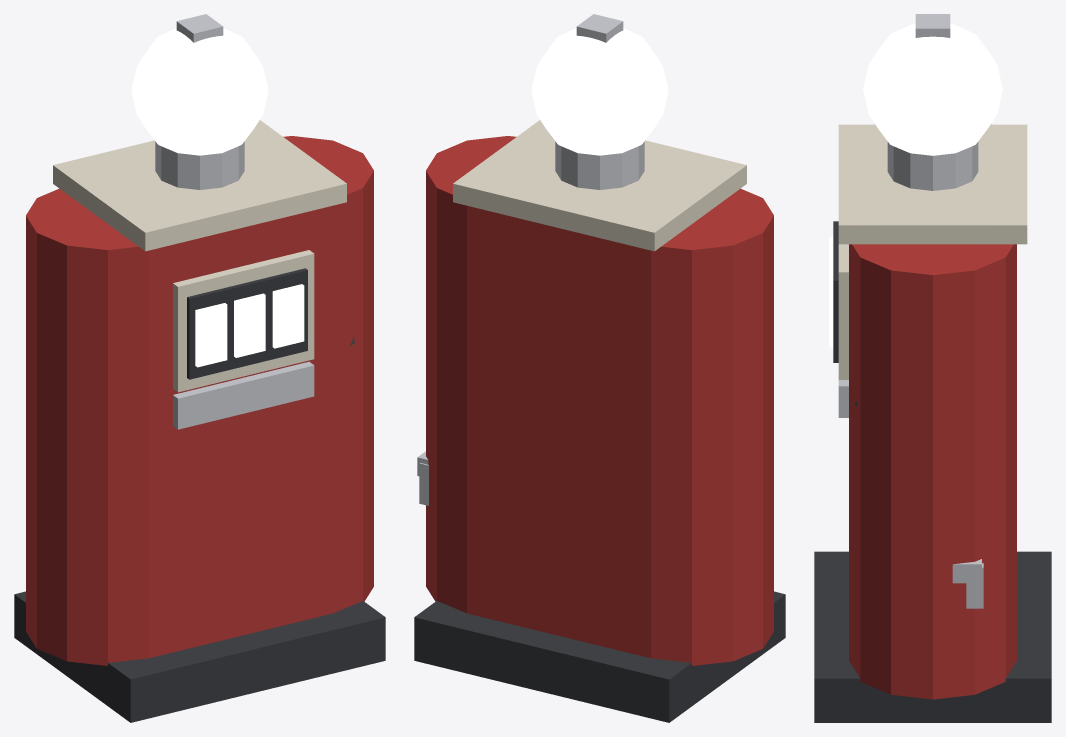
Rendered from fuel_pump.glb.
3 views of the same model, side by side, from view 1: azimuth 30°, elevation 25°; view 2: azimuth 150°, elevation 25°; view 3: azimuth 270°, elevation 25° (orthographic). The views are drawn at different scales.
Visible parts, largest first — view 1: fuel_pump; view 2: fuel_pump; view 3: fuel_pump.
Part boxes in pixels (x1,y1,x2,y2): fuel_pump: [14, 14, 385, 722]; fuel_pump: [414, 14, 785, 722]; fuel_pump: [814, 14, 1051, 722].
Bounding box in the file's own units: 1.1 × 2.01 × 0.68.
